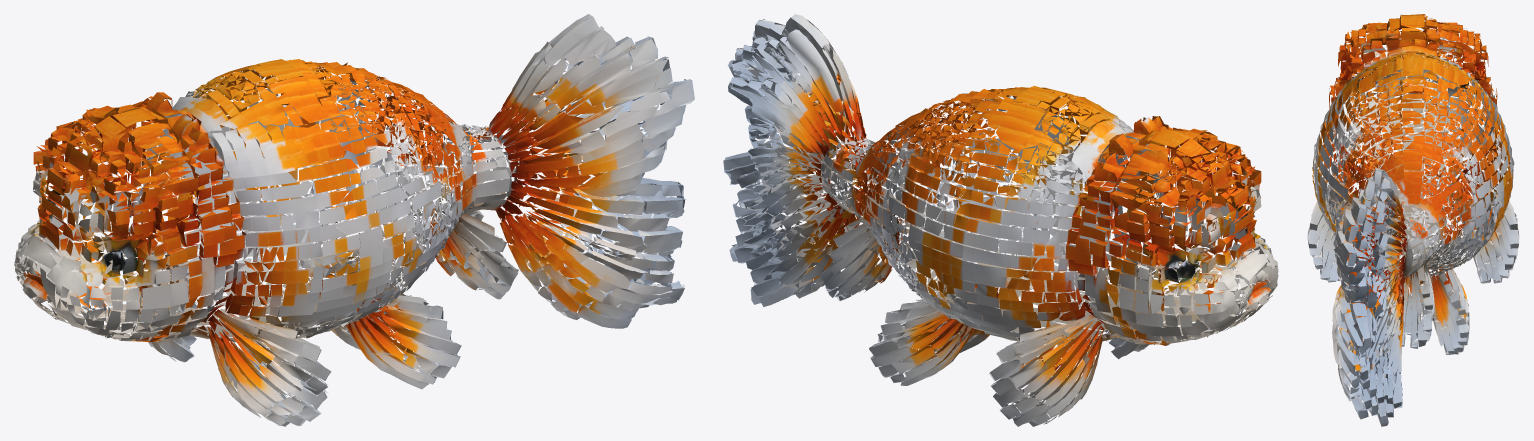
The model's file is fish_b.glb.
The picture shows the model from 3 angles, left to right: view 1: azimuth 30°, elevation 25°; view 2: azimuth 150°, elevation 25°; view 3: azimuth 270°, elevation 25°; orthographic projection. The views are drawn at different scales.
Parts seen in each view (by area): view 1: node_0; view 2: node_0; view 3: node_0.
Part boxes in pixels (left/top/right/bottom): node_0: left=14, top=14, right=694, bottom=426; node_0: left=723, top=14, right=1278, bottom=426; node_0: left=1307, top=14, right=1519, bottom=426.
Size of the model in its own units: 1.12 by 0.5692 by 0.4403.
1 material, 1 textured.
